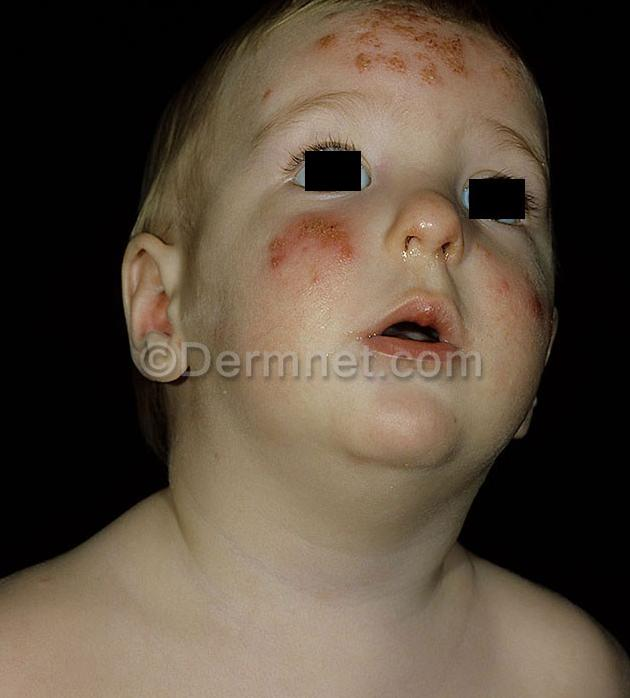Eritema 2: (311, 11, 501, 81), (259, 218, 363, 267)
exudacion 1: (521, 290, 550, 325)
exudacion 2: (308, 1, 525, 89), (267, 217, 358, 274)
